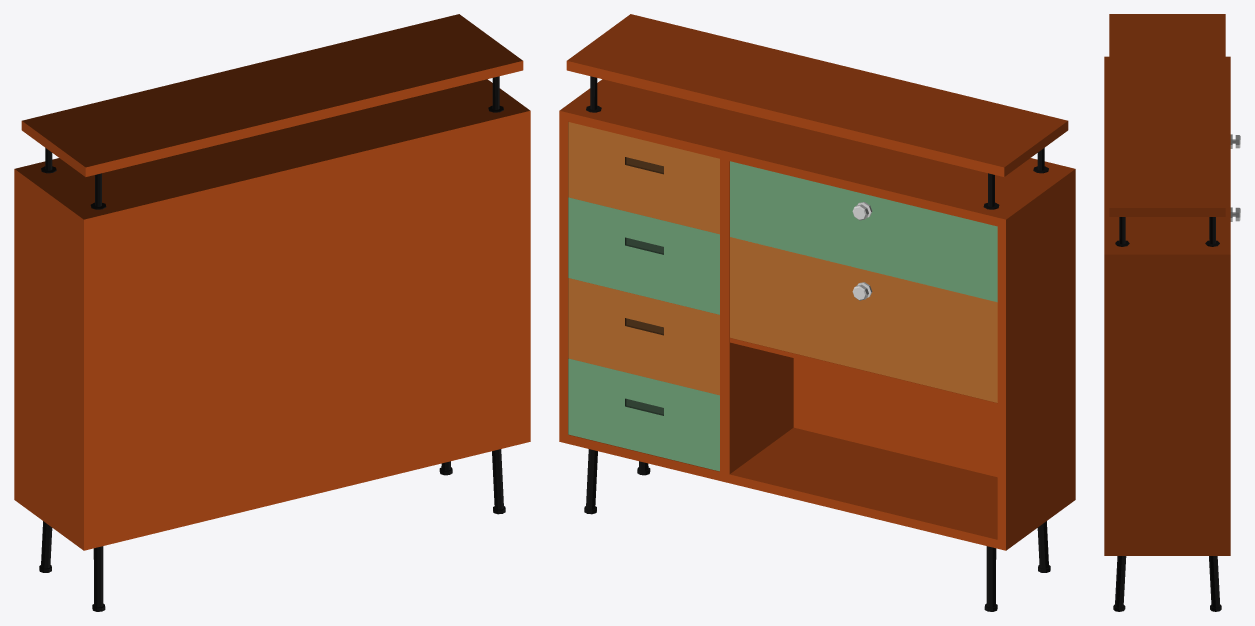
File: Side Cabinet.fbx
3 views of the same model, side by side, from view 1: azimuth 30°, elevation 25°; view 2: azimuth 150°, elevation 25°; view 3: azimuth 270°, elevation 25° (orthographic). The views are drawn at different scales.
Parts seen in each view (by area): view 1: Node 0; view 2: Node 0, Node 2, Node 1, Node 5, Node 6, Node 3, Node 4; view 3: Node 0.
Boxes of the visible parts, x1,y1,x2,y2 form: Node 0: (14,14,530,611); Node 0: (559,14,1075,611); Node 2: (730,237,997,402); Node 1: (730,161,997,302); Node 5: (568,197,719,314); Node 6: (568,278,719,395); Node 3: (568,358,719,471); Node 4: (568,122,719,234); Node 0: (1104,14,1230,611).
Bounding box in the file's own units: 0.4898 × 1.63 × 1.69.
